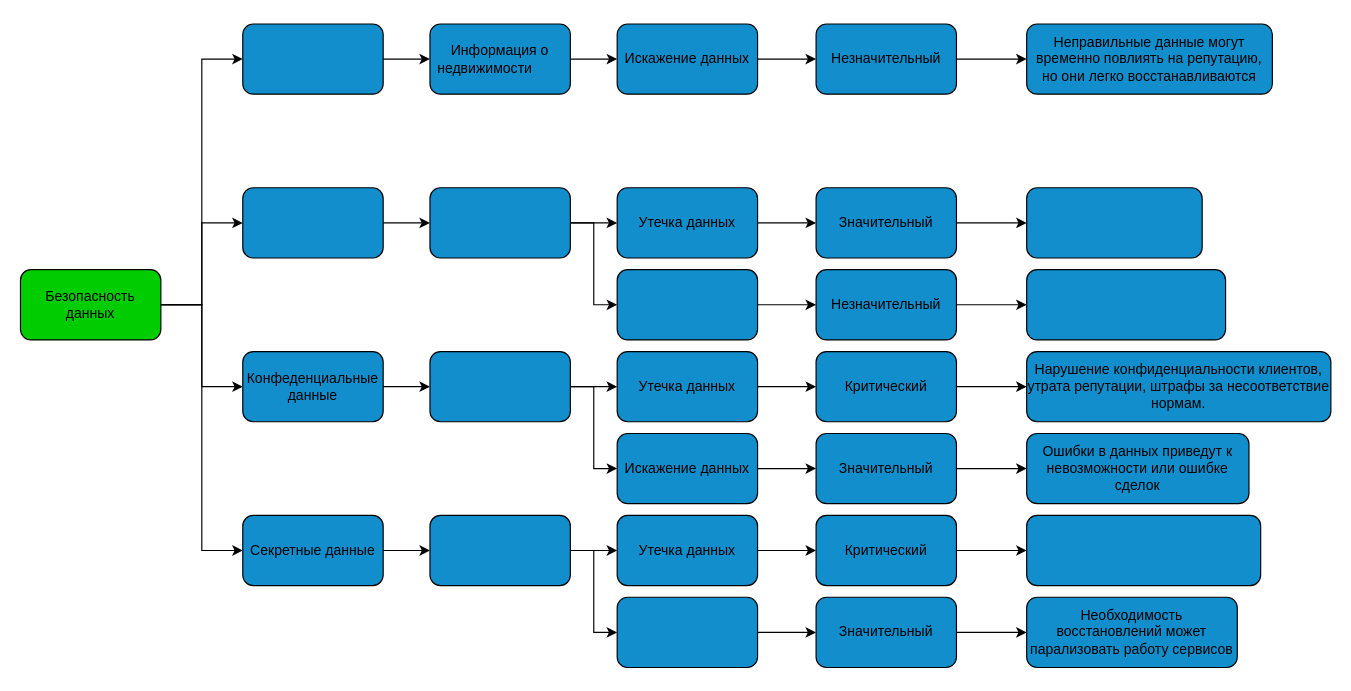
Image size: 1351x691. Some labels were removed from this diagram. The shapes that lost their labels are listed below. From the top down, each one's centre as x and y in pixels, then its label:
At point 312,58: "Публичные данные".
At point 312,222: "Внутренние данные".
At point 499,222: "API, архитектура".
At point 1114,222: "Утечка приведёт к угрозам эксплуатации уязвимостей".
At point 687,304: "Обесценивание данных".
At point 1126,304: "Устаревшие данные API малополезны для злоумышленников".
At point 499,386: "Данные клиентов".
At point 499,550: "Ключи доступа, токены".
At point 1143,550: "Нарушение безопасности интеграций, угроза безопасности всей системы".
At point 687,631: "Потеря данных".
